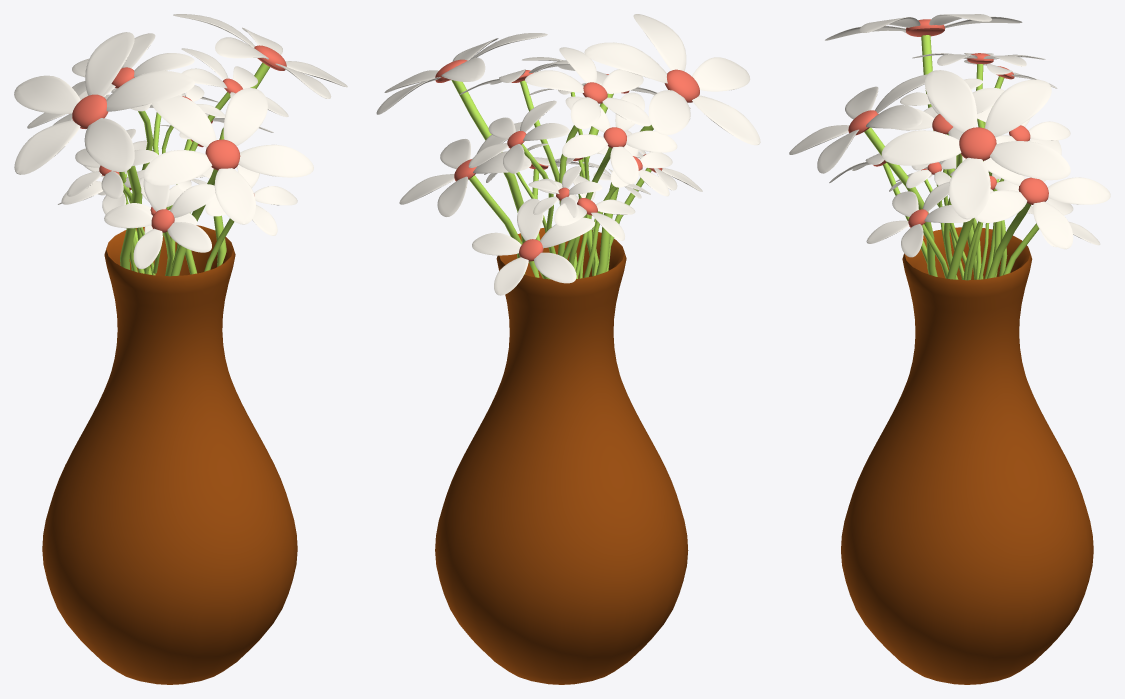
The model's file is flowerpot.fbx.
3 views of the same model, side by side, from view 1: azimuth 30°, elevation 25°; view 2: azimuth 150°, elevation 25°; view 3: azimuth 270°, elevation 25° (orthographic).
Parts seen in each view (by area): view 1: Vase, Flower.1, Flower.12; view 2: Vase, Flower.1, Flower.12; view 3: Vase, Flower.1, Flower.12.
Boxes of the visible parts, <box> form: Vase: <box>42,225,297,684</box>; Flower.1: <box>14,14,347,276</box>; Flower.12: <box>27,48,288,275</box>; Vase: <box>435,228,688,684</box>; Flower.1: <box>376,14,760,295</box>; Flower.12: <box>459,60,677,278</box>; Vase: <box>841,227,1093,684</box>; Flower.1: <box>789,14,1110,279</box>; Flower.12: <box>889,58,1070,280</box>.
Size of the model in its own units: 290 by 498 by 231.
